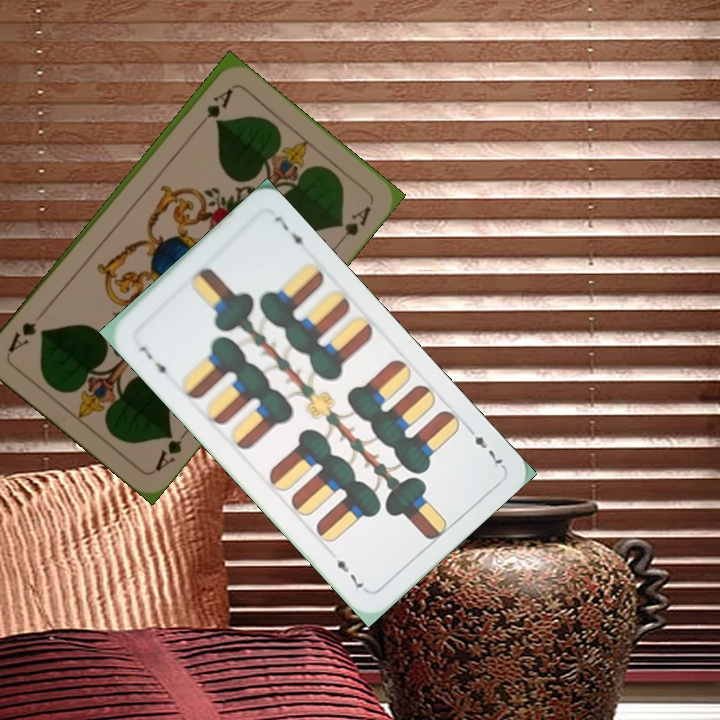E7: (462, 421, 506, 470), (135, 341, 171, 382)
GA: (191, 84, 236, 133), (151, 426, 193, 474)
